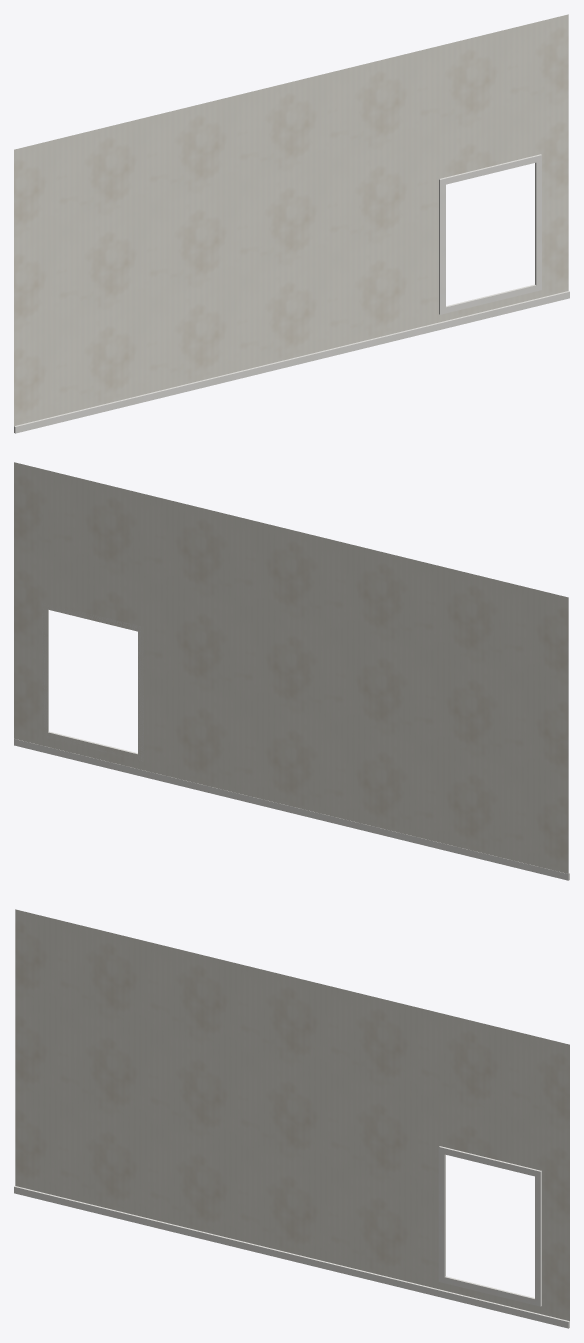
3 renders of one model, top to bottom at view 1: azimuth 30°, elevation 25°; view 2: azimuth 150°, elevation 25°; view 3: azimuth 330°, elevation 25°, orthographic.
Parts seen in each view (by area): view 1: jx_wm_12_7d560c80; view 2: jx_wm_12_7d560c80; view 3: jx_wm_12_7d560c80.
Boxes of the visible parts, x1,y1,x2,y2 form: jx_wm_12_7d560c80: (14, 14, 569, 433); jx_wm_12_7d560c80: (14, 462, 569, 880); jx_wm_12_7d560c80: (14, 909, 569, 1328).
Bounding box in the file's own units: 12.3 × 6 × 0.05.
2 materials, 2 textured.
